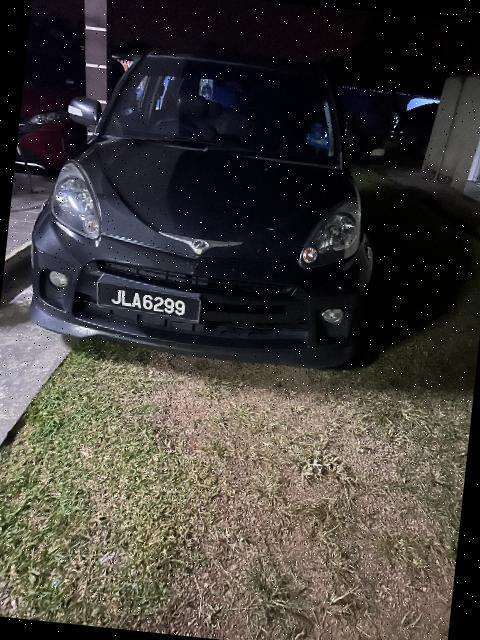License_Plate: (92, 278, 203, 329)
